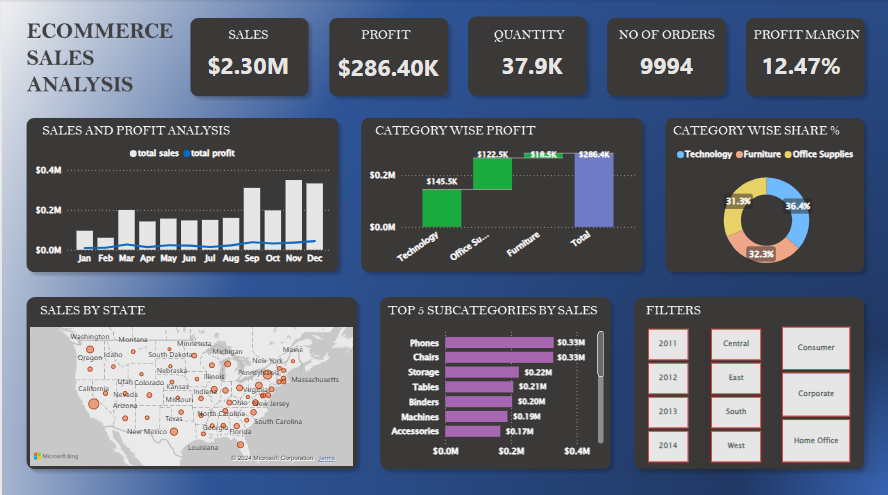

The dashboard page shown, as its layout file describes it:
{"tool":"powerbi","page":{"name":"Page 1","canvas":[1280,720],"ordinal":0},"visuals":[{"type":"lineClusteredColumnComboChart","fields":{"Category":["Data.month"],"Y":["measure table.total sales"],"Y2":["measure table.total profit"]},"box":[43.2,203,436.3,190.1],"z":0},{"type":"slicer","fields":{"Values":["Data.Year"]},"box":[904.3,468,108,205.9],"z":1000},{"type":"slicer","fields":{"Values":["Data.Region"]},"box":[995,468,122.4,205.9],"z":2000},{"type":"slicer","fields":{"Values":["Data.Segment"]},"box":[1097.3,465.1,148.3,208.8],"z":3000},{"type":"waterfallChart","fields":{"Category":["Data.Category"],"Y":["measure table.total profit"]},"box":[524.2,203,393.1,190.1],"z":4000},{"type":"donutChart","fields":{"Category":["Data.Category"],"Y":["measure table.total sales"]},"box":[956.2,204.5,289.4,200.2],"z":5000},{"type":"map","fields":{"Size":["measure table.total sales"],"Category":["Data.State"]},"box":[36,468,473.8,210.2],"z":6000},{"type":"barChart","fields":{"Category":["Data.Sub-Category"],"Y":["measure table.total sales"]},"box":[554.4,465.1,316.8,205.9],"z":7000},{"type":"card","fields":{"Values":["measure table.Profit Margin%"]},"box":[1054.2,55.8,193,77.8],"z":8000},{"type":"card","fields":{"Values":["measure table.total quantity"]},"box":[666.8,55.8,193,77.8],"z":10000},{"type":"card","fields":{"Values":["measure table.total profit"]},"box":[458.7,58.7,193,78],"z":12000},{"type":"card","fields":{"Values":["measure table.total sales"]},"box":[257.9,56.3,193,77.8],"z":14000},{"type":"card","fields":{"Values":["measure table.No Of Orders"]},"box":[859.8,55.8,194.4,77.8],"z":16000}]}

Visuals, with their boxes in screenshot pixels (x1, y1, x2, y2), scaled from the page's 1280x720 canvas onto the 888x495 screenshot:
lineClusteredColumnComboChart - Data.month x measure table.total sales: box(30, 140, 333, 270)
slicer - Data.Year: box(627, 322, 702, 463)
slicer - Data.Region: box(690, 322, 775, 463)
slicer - Data.Segment: box(761, 320, 864, 463)
waterfallChart - Data.Category x measure table.total profit: box(364, 140, 636, 270)
donutChart - Data.Category x measure table.total sales: box(663, 141, 864, 278)
map - measure table.total sales x Data.State: box(25, 322, 354, 466)
barChart - Data.Sub-Category x measure table.total sales: box(385, 320, 604, 461)
card - measure table.Profit Margin%: box(731, 38, 865, 92)
card - measure table.total quantity: box(463, 38, 596, 92)
card - measure table.total profit: box(318, 40, 452, 94)
card - measure table.total sales: box(179, 39, 313, 92)
card - measure table.No Of Orders: box(596, 38, 731, 92)
